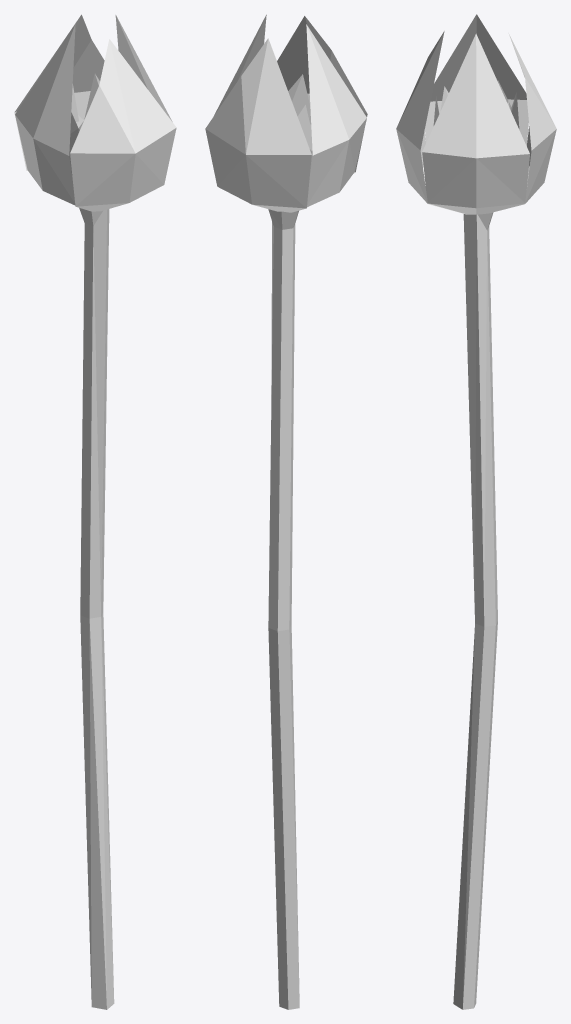
File: Env_Tulip_Low_Detail_01.glb
3 views of the same model, side by side, from view 1: azimuth 30°, elevation 25°; view 2: azimuth 150°, elevation 25°; view 3: azimuth 270°, elevation 25° (orthographic).
Visible parts, largest first — view 1: Env_Tulip_Low_Detail_01; view 2: Env_Tulip_Low_Detail_01; view 3: Env_Tulip_Low_Detail_01.
Part boxes in pixels (x1,y1,x2,y2): Env_Tulip_Low_Detail_01: (14, 14, 176, 1009); Env_Tulip_Low_Detail_01: (205, 14, 367, 1009); Env_Tulip_Low_Detail_01: (396, 14, 556, 1009).
Size of the model in its own units: 0.066 by 0.4978 by 0.0739.
Materials: 1 (1 with a texture image).
